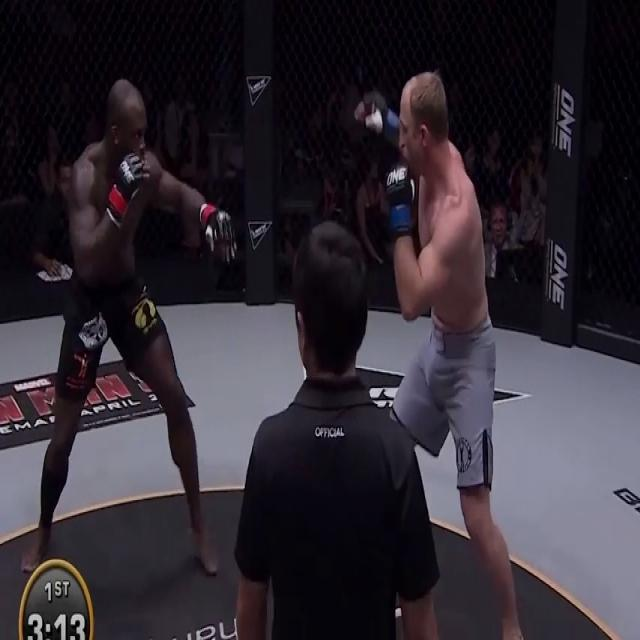fight: (23, 64, 509, 639)
non-fight: (230, 205, 443, 640)
